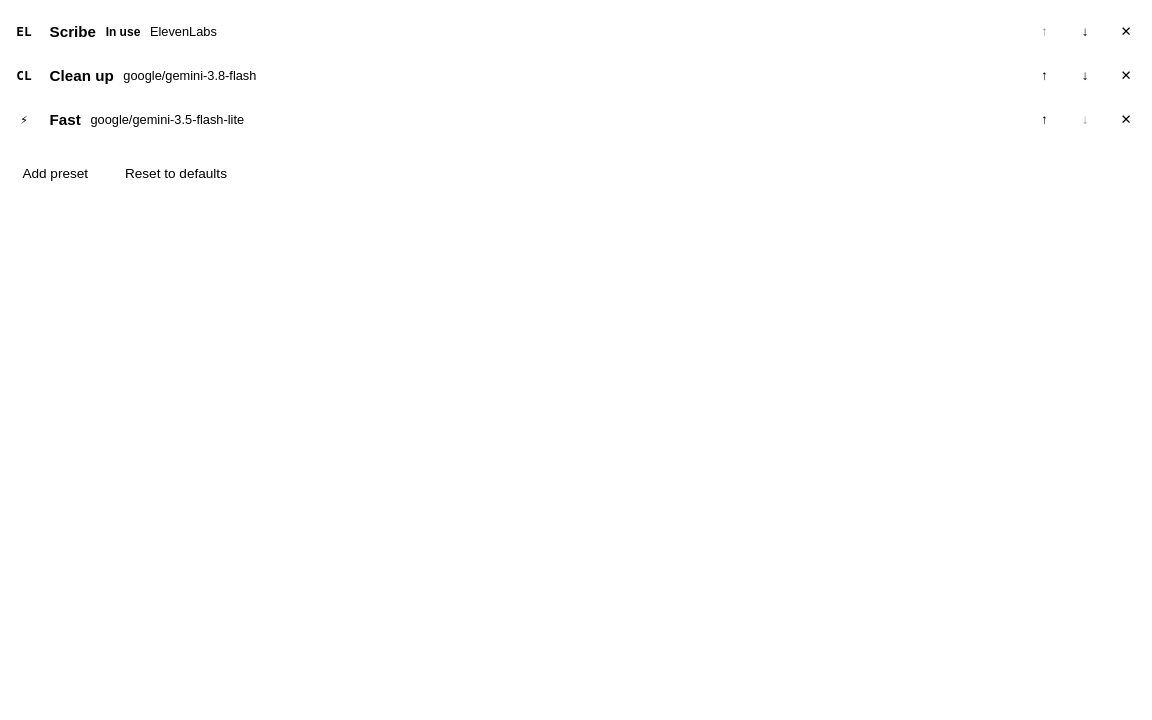
Test: DictationPresets › will not save an invalid preset, and says why
Click the button with aria-label "Edit Clean up" at (82, 76), box [8,54,1022,98]
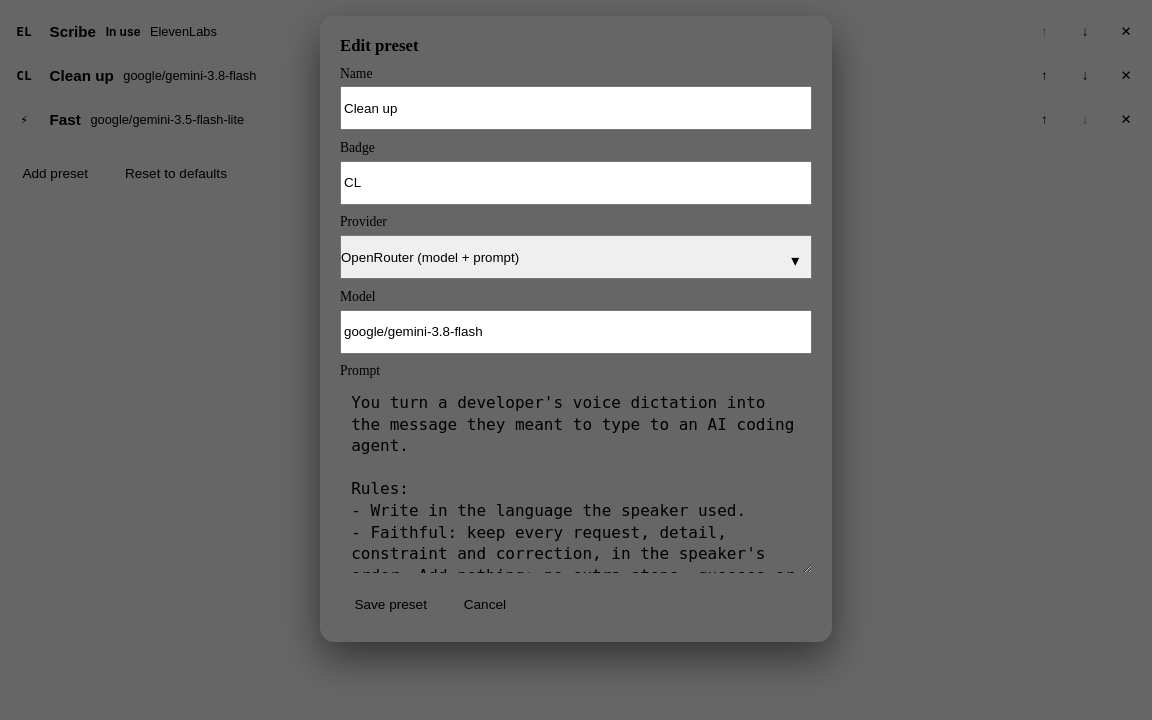
Type "TOOLONG" into the field labelled "Badge" at (576, 183), box [340,161,812,205]
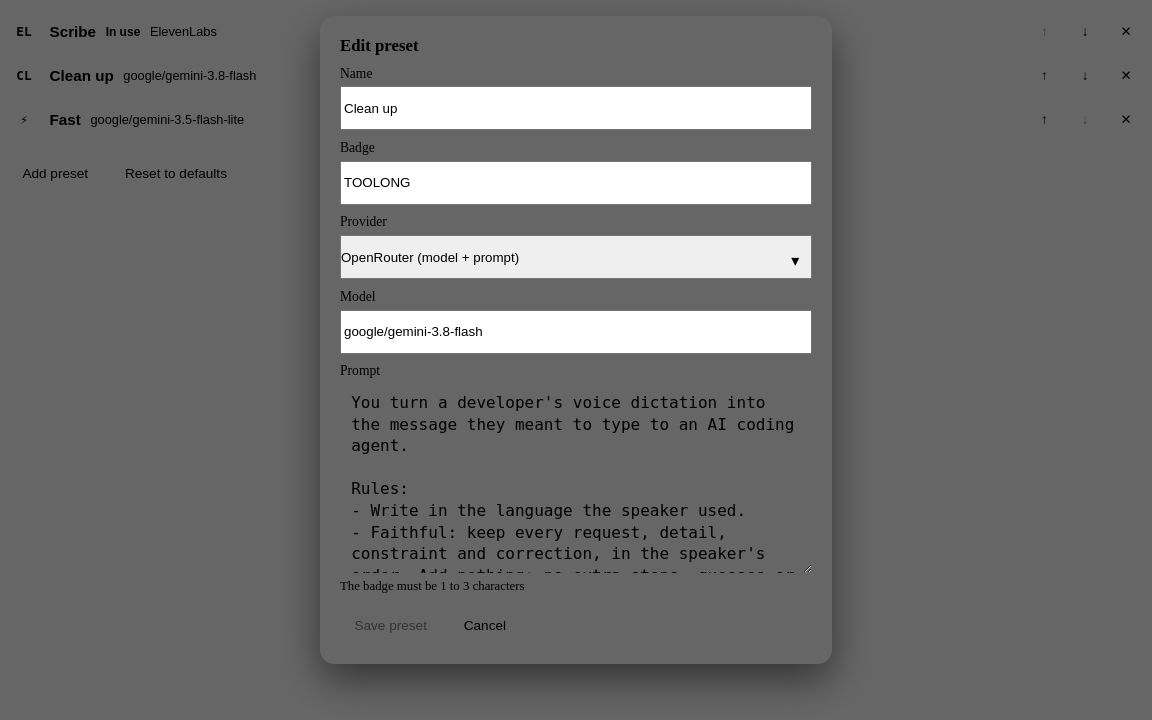
expect the button "Save preset" is disabled: met, box [340,604,441,648]
expect the text "The badge must be 1 to 3 characters" is shown: met, box [340,579,524,593]
